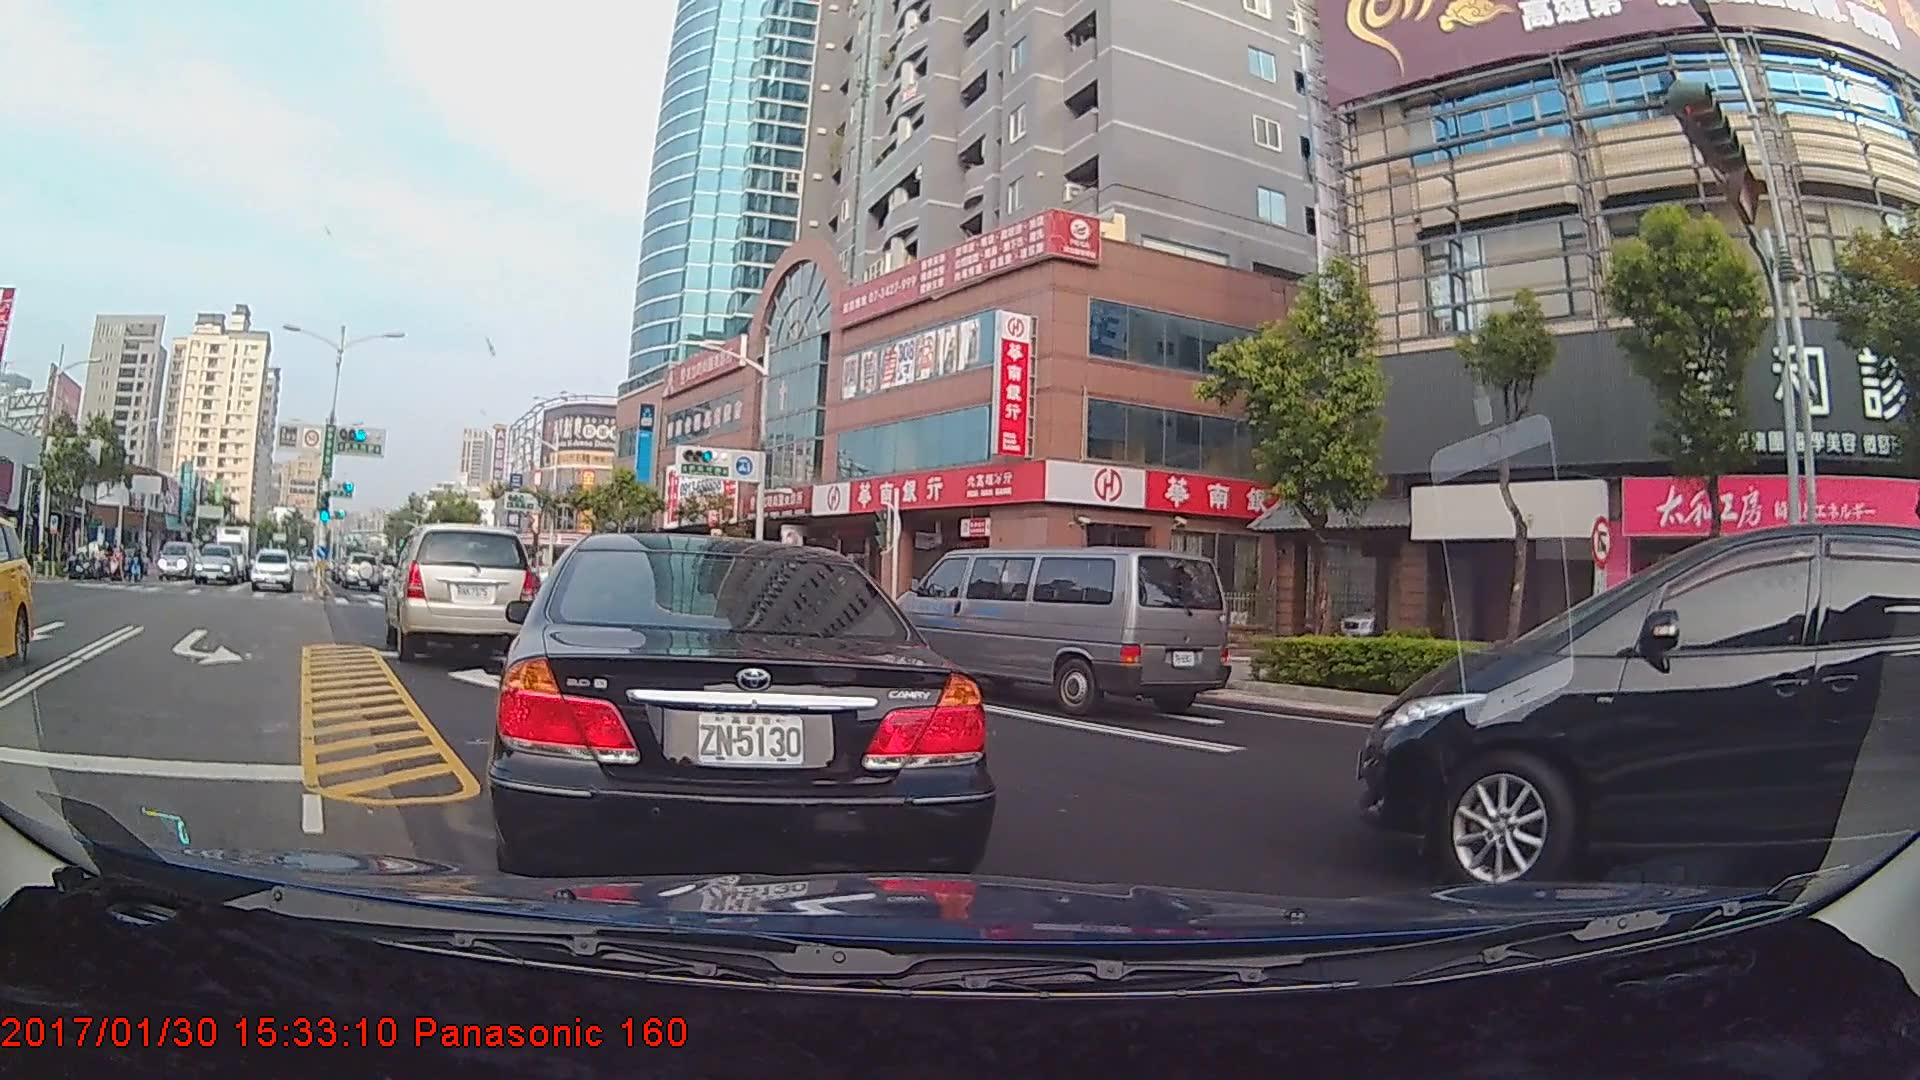vehicle: (1356, 506, 1902, 899), (498, 527, 986, 887), (882, 546, 1229, 723), (388, 524, 543, 663), (0, 522, 33, 667), (208, 521, 258, 566), (194, 542, 244, 585), (251, 547, 295, 593), (157, 541, 200, 582), (338, 553, 381, 591)
